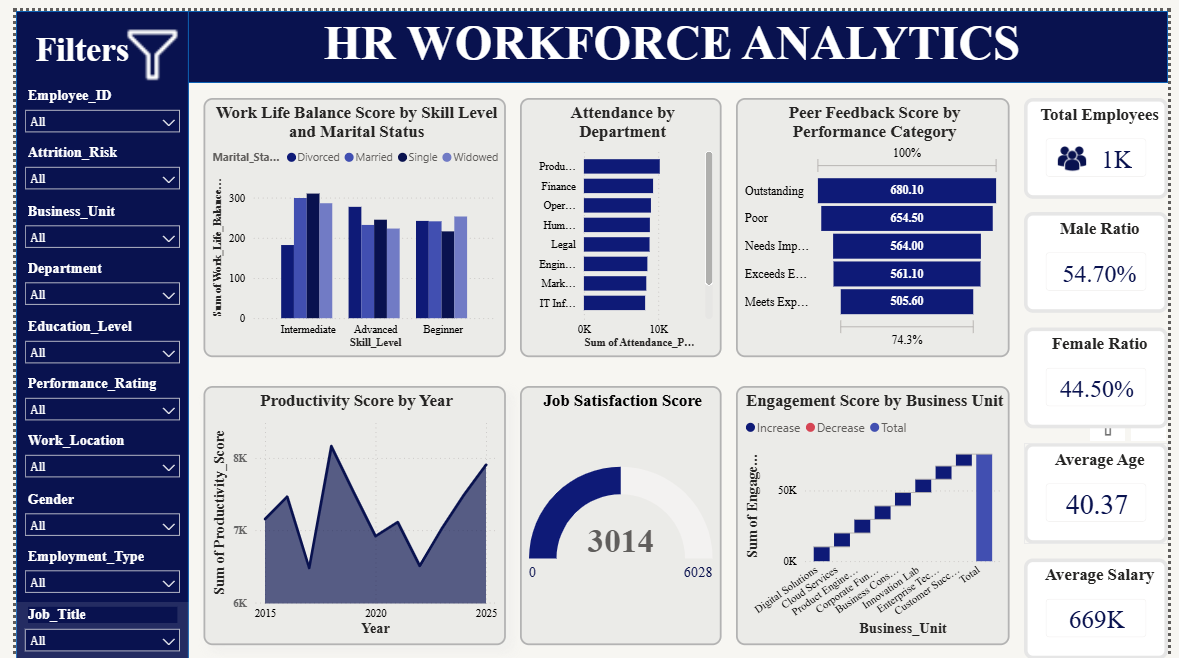

The page's visual inventory and layout, read from the dashboard file:
{"tool":"powerbi","page":{"name":"Page 1","canvas":[1280,720],"ordinal":0},"visuals":[{"type":"bookmarkNavigator","box":[336,48,608,48],"z":0},{"type":"shape","box":[0,0,1280,80],"z":1000},{"type":"shape","box":[0,0,192,720],"z":2000},{"type":"cardVisual","title":"Total Employees","fields":{"Data":["Sum(Sheet (2).Total Employees)"]},"box":[1120,96,160,112],"z":3000},{"type":"textbox","box":[176,0,1104,80],"z":4000},{"type":"cardVisual","title":"Average Age","fields":{"Data":["Sum(Sheet (2).Average Age)"]},"box":[1120,480,160,112],"z":5000},{"type":"cardVisual","title":"Male Ratio","fields":{"Data":["Sum(Sheet (2).Male Ratio)"]},"box":[1120,224,160,112],"z":6000},{"type":"cardVisual","title":"Female Ratio","fields":{"Data":["Sum(Sheet (2).Female Ratio)"]},"box":[1120,352,160,112],"z":7000},{"type":"textbox","box":[16,16,128,64],"z":8000},{"type":"image","box":[112,16,80,64],"z":9000},{"type":"slicer","fields":{"Values":["Sheet (2).Employee_ID"]},"box":[0,80,192,64],"z":10000},{"type":"slicer","fields":{"Values":["Sheet (2).Attrition_Risk"]},"box":[0,144,192,64],"z":11000},{"type":"slicer","fields":{"Values":["Sheet (2).Business_Unit"]},"box":[0,208,192,64],"z":12000},{"type":"slicer","fields":{"Values":["Sheet (2).Department"]},"box":[0,272,192,64],"z":13000},{"type":"slicer","fields":{"Values":["Sheet (2).Education_Level"]},"box":[0,336,192,64],"z":14000},{"type":"slicer","fields":{"Values":["Sheet (2).Performance_Rating"]},"box":[0,400,192,64],"z":15000},{"type":"slicer","fields":{"Values":["Sheet (2).Work_Location"]},"box":[0,464,192,64],"z":16000},{"type":"slicer","fields":{"Values":["Sheet (2).Gender"]},"box":[0,528,192,64],"z":17000},{"type":"slicer","fields":{"Values":["Sheet (2).Employment_Type"]},"box":[0,592,192,64],"z":18000},{"type":"cardVisual","title":"Average Salary","fields":{"Data":["Sum(Sheet (2).Average Salary)"]},"box":[1120,608,160,112],"z":19000},{"type":"funnel","title":" Peer Feedback Score by Performance Category","fields":{"Category":["Sheet (2).Performance_Category"],"Y":["Sum(Sheet (2).Peer_Feedback_Score)"]},"box":[800,96,304,288],"z":20000},{"type":"clusteredColumnChart","title":"Work Life Balance Score by Skill Level and Marital Status","fields":{"Y":["Sum(Sheet (2).Work_Life_Balance_Score)"],"Category":["Sheet (2).Skill_Level"],"Series":["Sheet (2).Marital_Status"]},"box":[208,96,336,288],"z":21000},{"type":"barChart","title":"Attendance by Department","fields":{"Category":["Sheet (2).Department"],"Y":["Sum(Sheet (2).Attendance_Percentage)"]},"box":[560,96,224,288],"z":22000},{"type":"stackedAreaChart","title":"Productivity Score by Year","fields":{"Category":["Sheet (2).Hire_Date.Variation.Date Hierarchy.Year","Sheet (2).Hire_Date.Variation.Date Hierarchy.Quarter","Sheet (2).Hire_Date.Variation.Date Hierarchy.Month","Sheet (2).Hire_Date.Variation.Date Hierarchy.Day"],"Y":["Sum(Sheet (2).Productivity_Score)"]},"box":[208,416,336,288],"z":23000},{"type":"waterfallChart","title":"Engagement Score by Business Unit","fields":{"Category":["Sheet (2).Business_Unit"],"Y":["Sum(Sheet (2).Engagement_Score)"]},"box":[800,416,304,288],"z":24000},{"type":"gauge","title":" Job Satisfaction Score","fields":{"Y":["Sum(Sheet (2).Job_Satisfaction_Score)"]},"box":[560,416,224,288],"z":25000},{"type":"slicer","fields":{"Values":["Sheet (2).Job_Title"]},"box":[0,656,192,64],"z":26000}]}

Visuals, with their boxes in screenshot pixels (x1, y1, x2, y2), scaled from the page's 1280x720 canvas onto the 1179x658 screenshot:
bookmarkNavigator: [309,44,870,88]
shape: [0,0,1178,73]
shape: [0,0,177,657]
"Total Employees" cardVisual: [1032,88,1178,190]
textbox: [162,0,1178,73]
"Average Age" cardVisual: [1032,439,1178,541]
"Male Ratio" cardVisual: [1032,205,1178,307]
"Female Ratio" cardVisual: [1032,322,1178,424]
textbox: [15,15,133,73]
image: [103,15,177,73]
slicer - Sheet (2).Employee_ID: [0,73,177,132]
slicer - Sheet (2).Attrition_Risk: [0,132,177,190]
slicer - Sheet (2).Business_Unit: [0,190,177,249]
slicer - Sheet (2).Department: [0,249,177,307]
slicer - Sheet (2).Education_Level: [0,307,177,366]
slicer - Sheet (2).Performance_Rating: [0,366,177,424]
slicer - Sheet (2).Work_Location: [0,424,177,483]
slicer - Sheet (2).Gender: [0,483,177,541]
slicer - Sheet (2).Employment_Type: [0,541,177,600]
"Average Salary" cardVisual: [1032,556,1178,657]
" Peer Feedback Score by Performance Category" funnel: [737,88,1017,351]
"Work Life Balance Score by Skill Level and Marital Status" clusteredColumnChart: [192,88,501,351]
"Attendance by Department" barChart: [516,88,722,351]
"Productivity Score by Year" stackedAreaChart: [192,380,501,643]
"Engagement Score by Business Unit" waterfallChart: [737,380,1017,643]
" Job Satisfaction Score" gauge: [516,380,722,643]
slicer - Sheet (2).Job_Title: [0,600,177,657]
